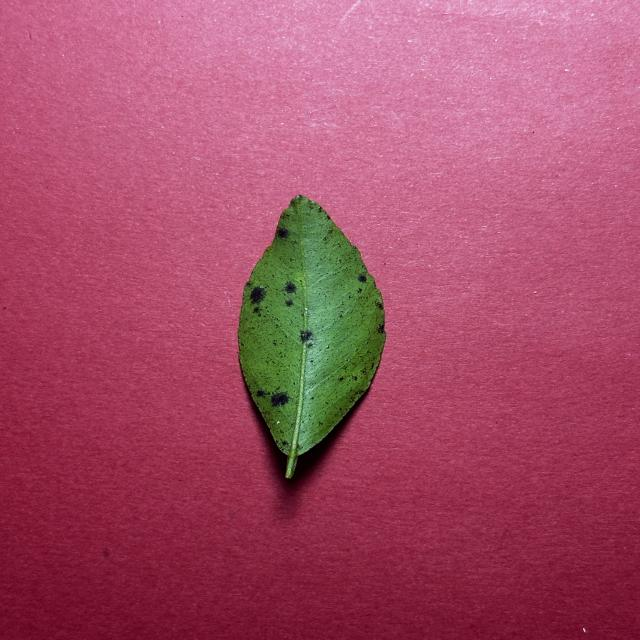sooty_mold: (238, 196, 386, 477)
